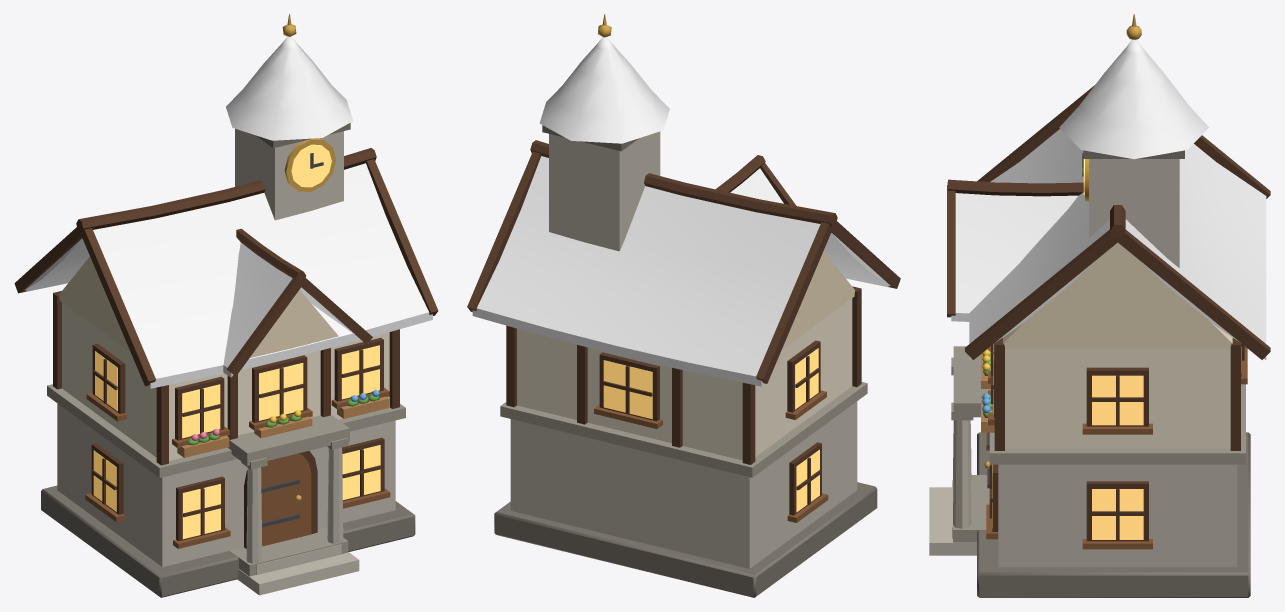
The model's file is district-tier4.glb.
3 renders of one model, left to right at view 1: azimuth 30°, elevation 25°; view 2: azimuth 150°, elevation 25°; view 3: azimuth 270°, elevation 25°, orthographic. The views are drawn at different scales.
Visible parts, largest first — view 1: Part_RoofTint, Part_StoneLight, Part_TimberDark, Part_WindowGlow, UpperBody, Part_StoneMid, Part_StoneDark, Part_WoodWarm, Part_PlasterWarm, Part_WoodLight, Part_Brass; view 2: Part_RoofTint, Part_StoneLight, UpperBody, Part_TimberDark, Part_StoneDark, Part_StoneMid, Part_WindowGlow, Part_PlasterWarm, Part_WoodWarm; view 3: Part_RoofTint, Part_StoneLight, UpperBody, Part_TimberDark, Part_PlasterWarm, Part_StoneDark, Part_StoneMid, Part_WindowGlow, Part_WoodWarm.
Boxes of the visible parts, <box> form: Part_RoofTint: <box>22,36,432,388</box>; Part_StoneLight: <box>57,128,395,595</box>; Part_TimberDark: <box>14,148,438,548</box>; Part_WindowGlow: <box>93,144,380,539</box>; UpperBody: <box>62,302,389,460</box>; Part_StoneMid: <box>47,384,405,576</box>; Part_StoneDark: <box>41,122,415,597</box>; Part_WoodWarm: <box>85,387,390,548</box>; Part_PlasterWarm: <box>59,256,338,357</box>; Part_WoodLight: <box>177,396,388,457</box>; Part_Brass: <box>282,14,335,501</box>; Part_RoofTint: <box>472,37,894,386</box>; Part_StoneLight: <box>510,131,857,568</box>; UpperBody: <box>517,298,852,460</box>; Part_TimberDark: <box>467,140,900,515</box>; Part_StoneDark: <box>494,125,877,597</box>; Part_StoneMid: <box>500,382,867,477</box>; Part_WindowGlow: <box>603,348,819,512</box>; Part_PlasterWarm: <box>782,251,855,349</box>; Part_WoodWarm: <box>594,390,828,522</box>; Part_RoofTint: <box>951,39,1266,359</box>; Part_StoneLight: <box>929,159,1237,567</box>; UpperBody: <box>1005,349,1230,448</box>; Part_TimberDark: <box>947,85,1270,541</box>; Part_PlasterWarm: <box>1003,242,1232,349</box>; Part_StoneDark: <box>977,150,1250,597</box>; Part_StoneMid: <box>951,346,1245,542</box>; Part_WindowGlow: <box>992,159,1241,539</box>; Part_WoodWarm: <box>986,346,1247,549</box>.
Bounding box in the file's own units: 4.94 × 7.8 × 4.36.
